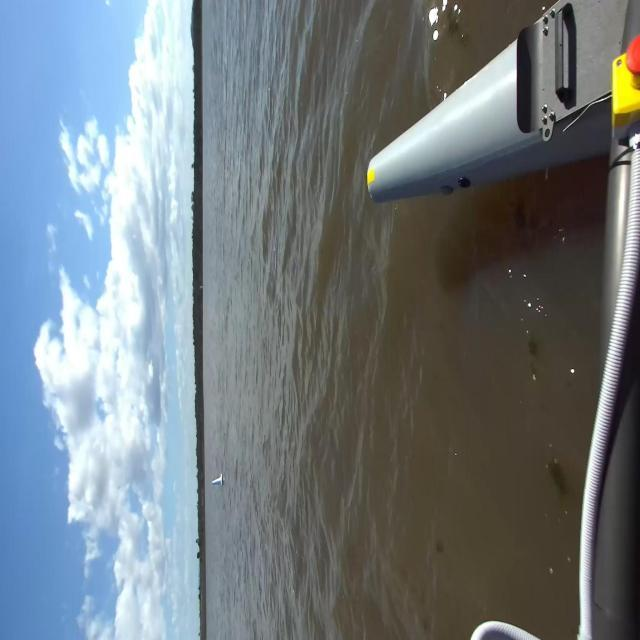White_Buoy: (203, 476, 235, 492)
